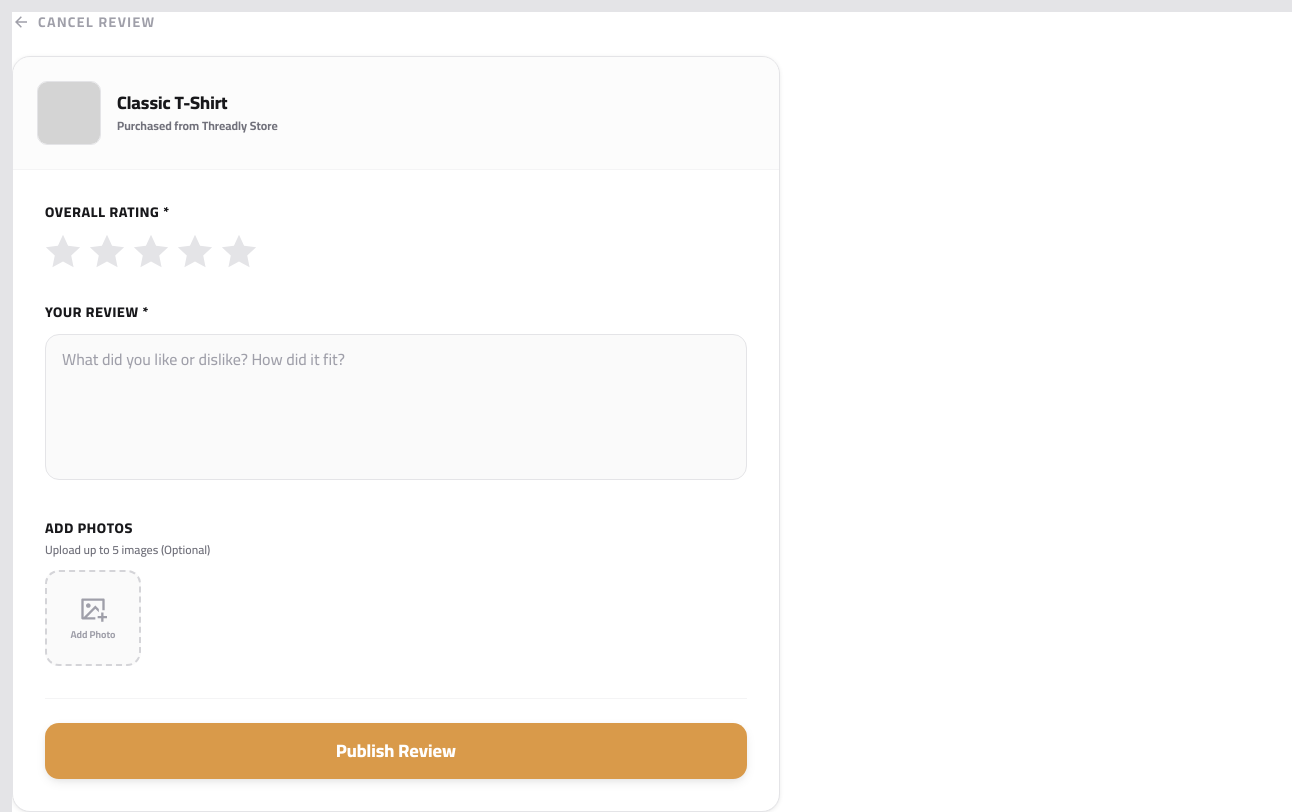
Test case: Account Write Review Page › submits the review and redirects on success
The image size is (1292, 812).
Expected: the heading "Classic T-Shirt" is shown, [117,86,228,119]
Click the button named "rate 4 stars" at (195, 252), box [177,234,213,270]
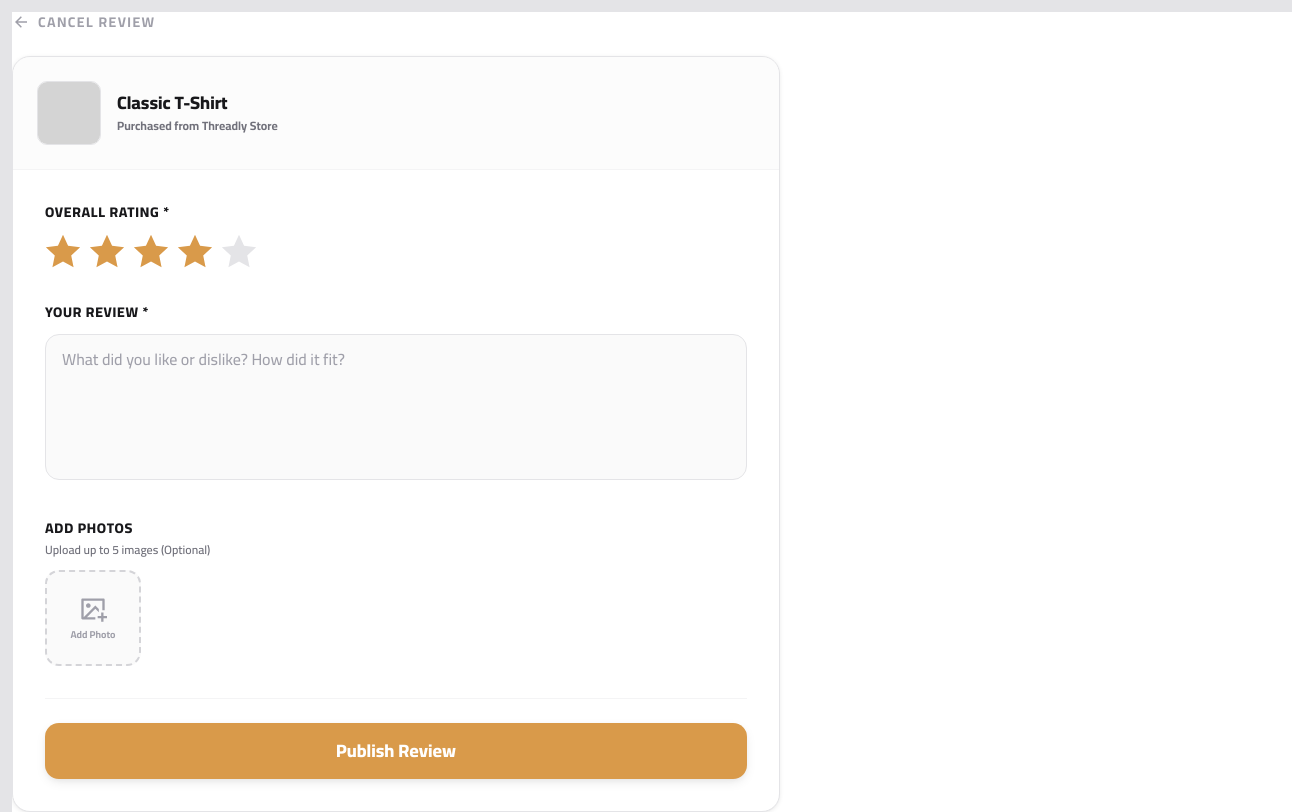
Type "Great quality, fits perfectly!" into the text box at (396, 407), box [45,334,747,480]
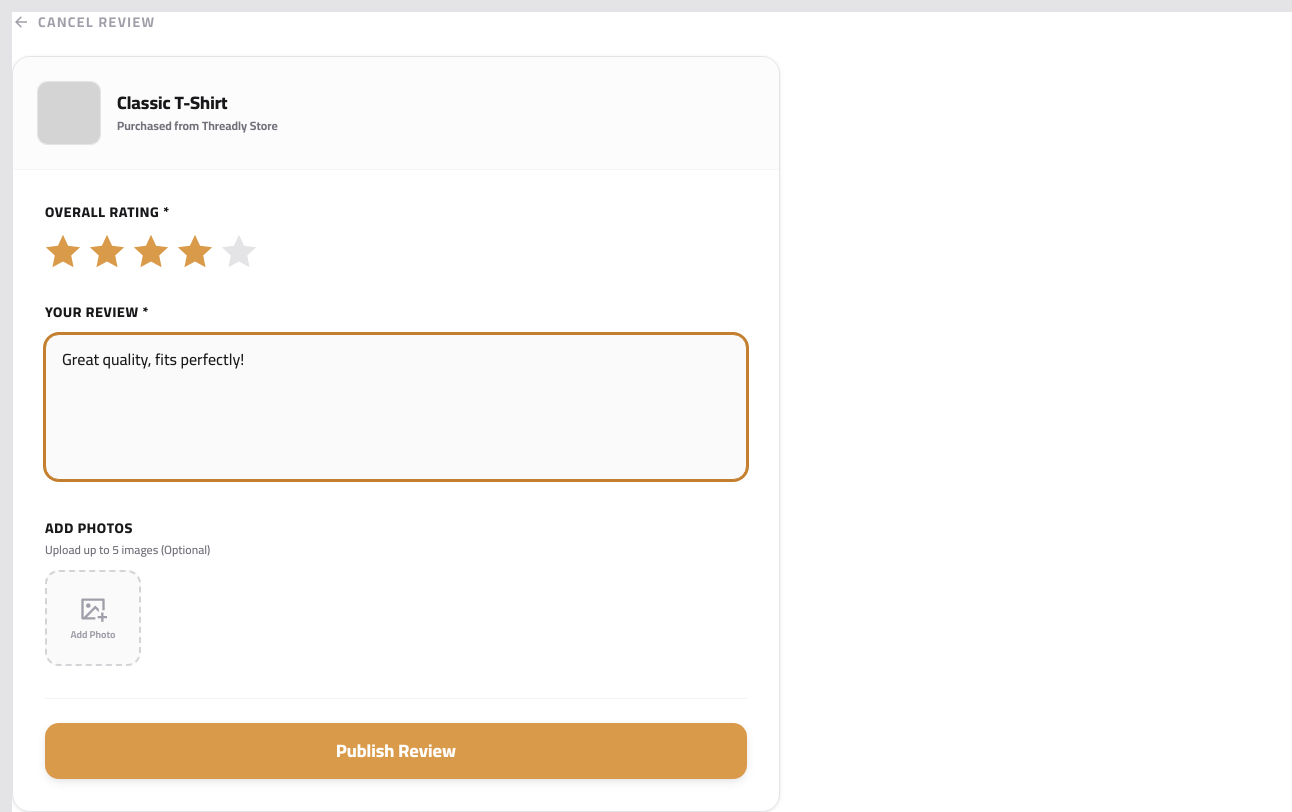
Click the button "Publish Review" at (396, 751), box [45,723,747,779]
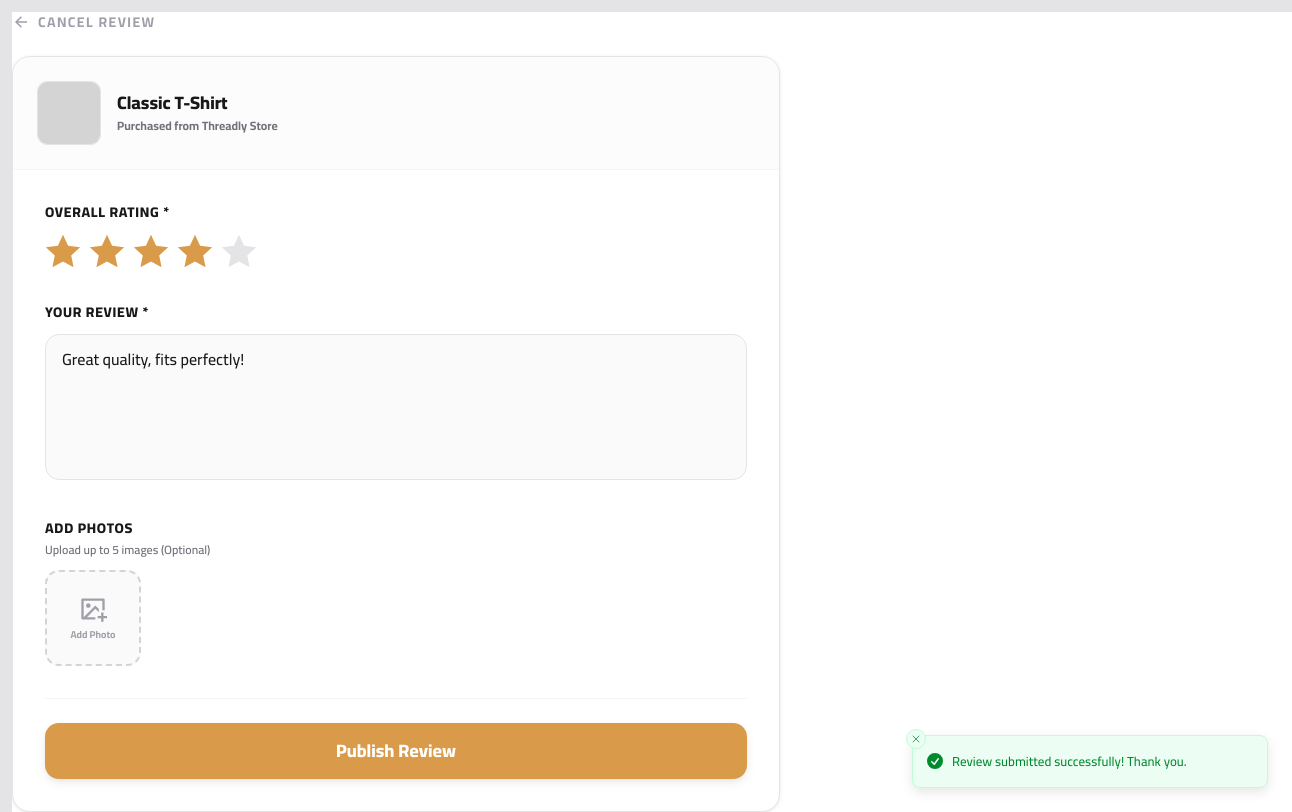
Expected: the text "Review submitted successfully! Thank you." is shown, [952,752,1187,771]
